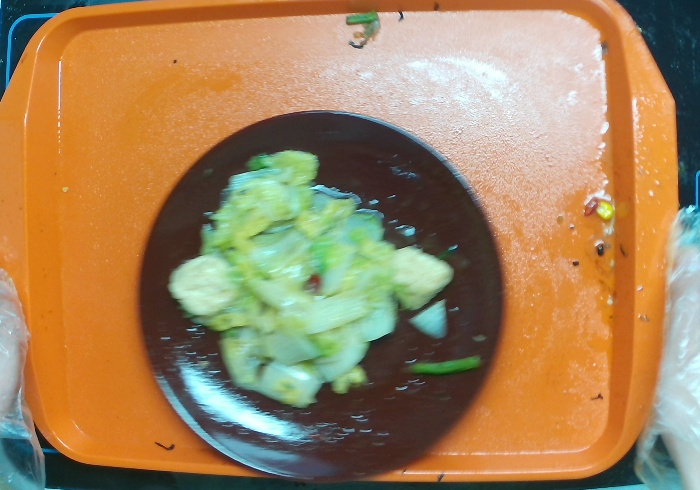HZYJPL-Ka_Fei_Yuan_Pan: (134, 106, 508, 490)
